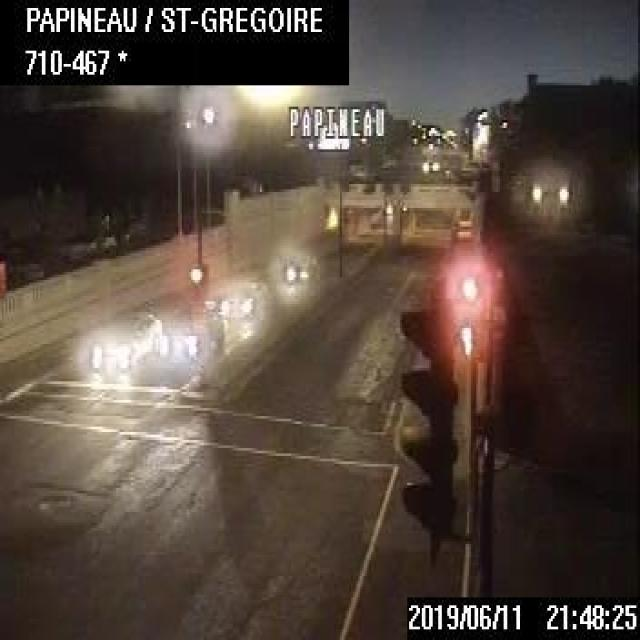vehicle: (87, 304, 161, 374), (156, 320, 208, 362), (218, 281, 263, 321), (280, 251, 318, 285)
